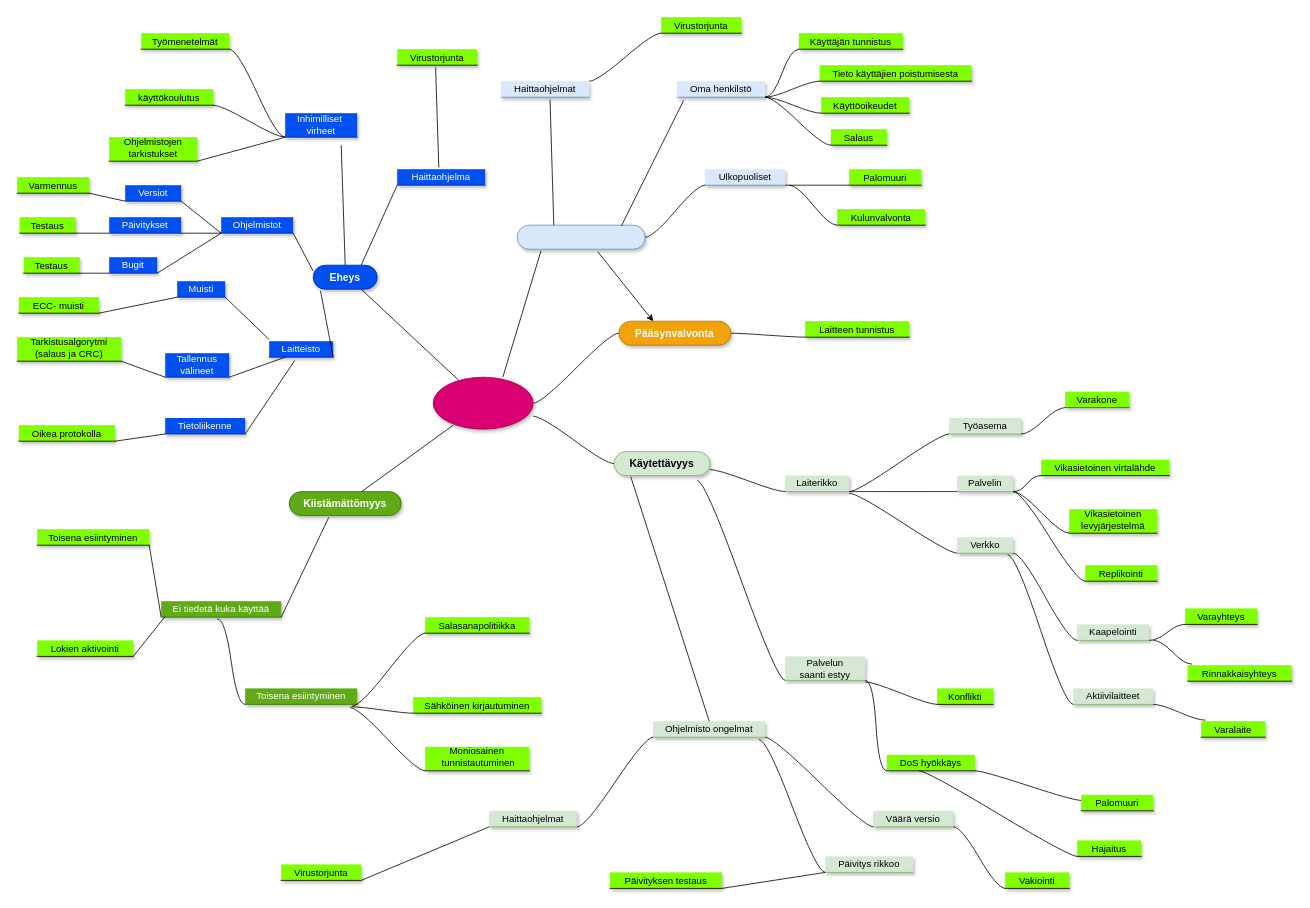
The diagram is 1310 pixels wide and 908 high, and some of its shapes have lost their labels. The shapes that lost their labels are listed below. From the top down, each one's centre as x and y in pixels, then its label:
At point (581, 238): "Luottamuksellisuus".
At point (483, 404): "Tietoturvariskit".
